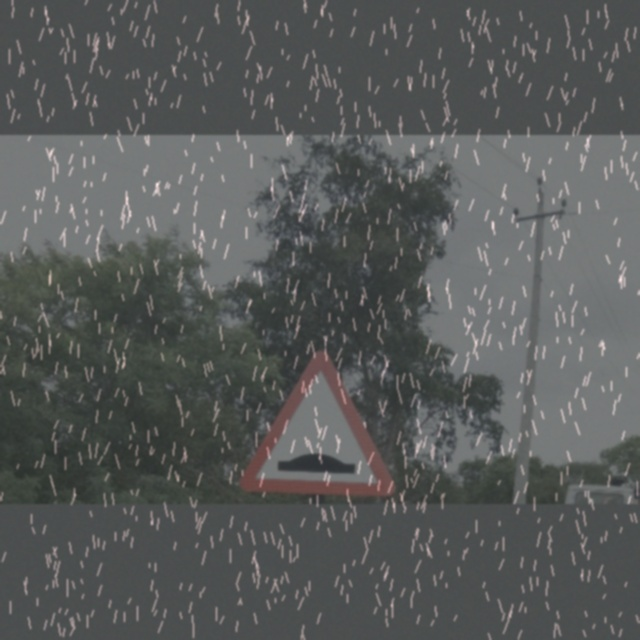Dangerous_Dip: (242, 349, 381, 485)
